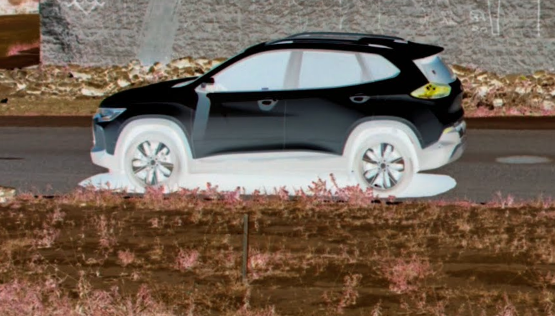car: (88, 26, 469, 197)
